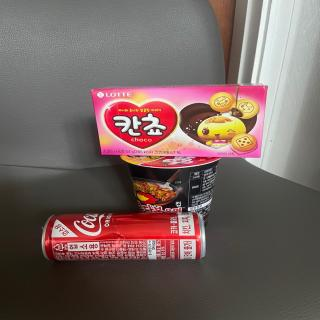cocacola: (35, 211, 216, 263)
